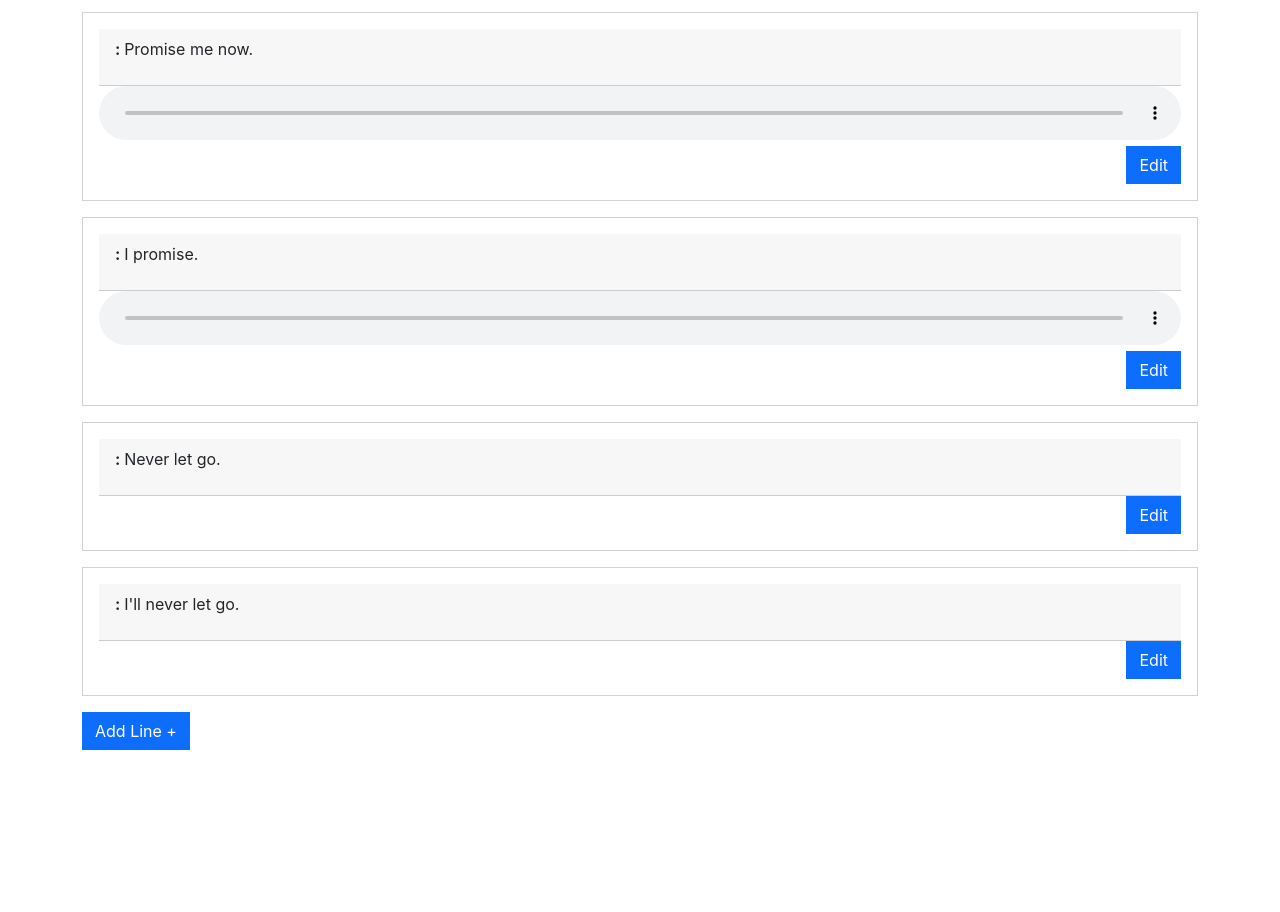
it: LineListing › edit button
Step 1. Click the 1st button "Edit" → click(1154, 165), box [1126,146,1181,184]
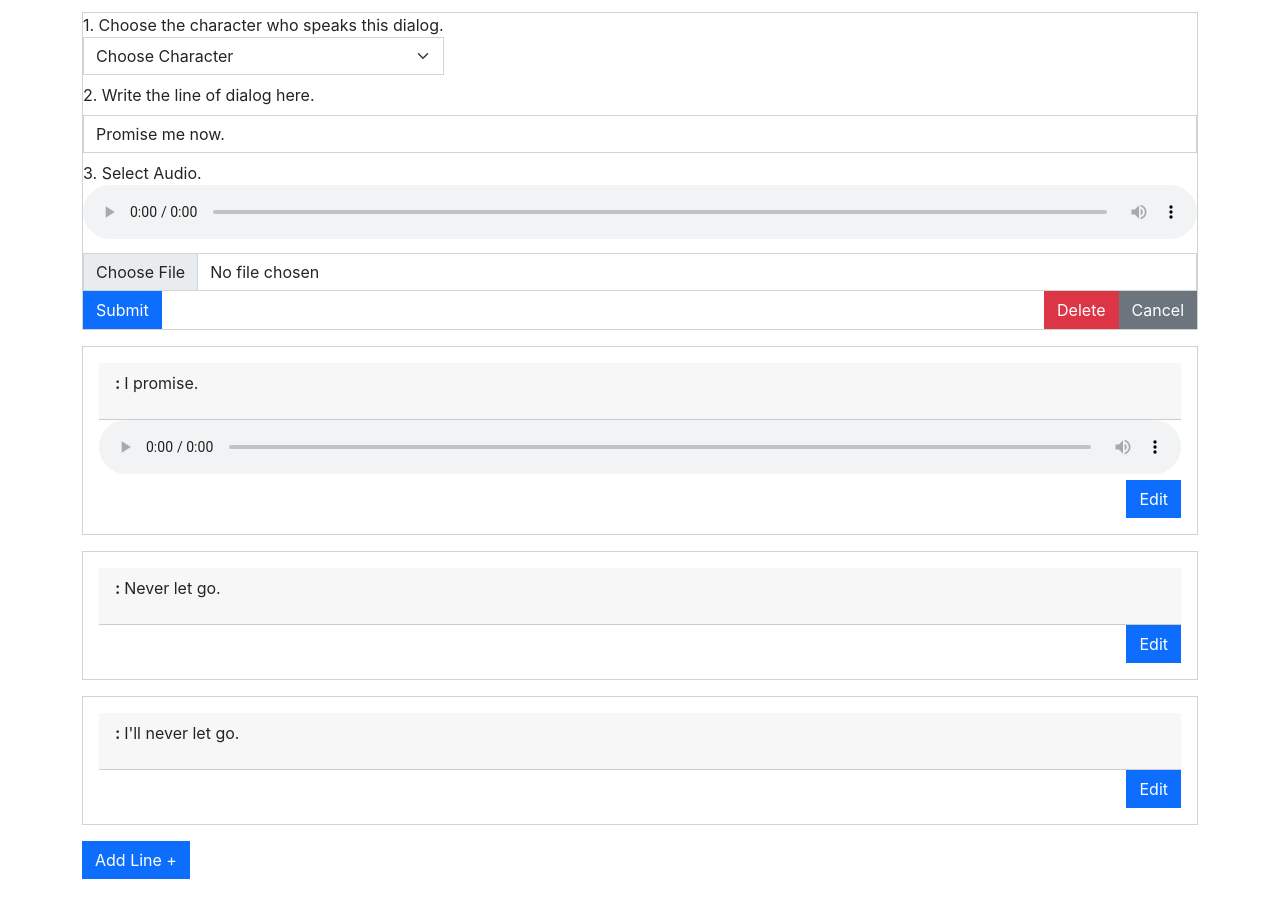
Now the text "1. Choose the character who speaks this dialog." is shown, box [83,15,444,35]
Now the text "2. Write the line of dialog here." is shown, box [83,85,314,105]
Now the text "3. Select Audio." is shown, box [83,163,202,183]
